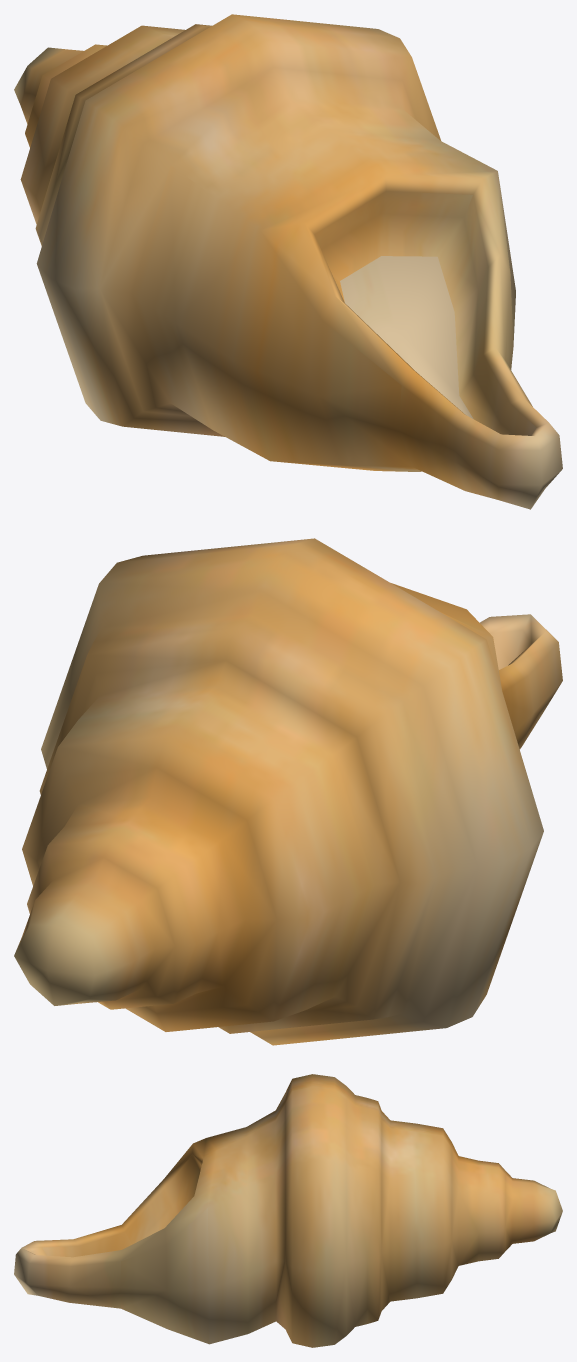
The model's file is Buccinidae_Shell.fbx.
The picture shows the model from 3 angles, top to bottom: view 1: azimuth 30°, elevation 25°; view 2: azimuth 150°, elevation 25°; view 3: azimuth 270°, elevation 25°; orthographic projection. The views are drawn at different scales.
Parts seen in each view (by area): view 1: BugBook; view 2: BugBook; view 3: BugBook.
Part boxes in pixels (x1,y1,x2,y2): BugBook: (14, 14, 562, 509); BugBook: (14, 538, 562, 1045); BugBook: (14, 1074, 562, 1347).
Size of the model in its own units: 0.6234 by 0.6155 by 1.24.
Materials: 1 (1 with a texture image).
